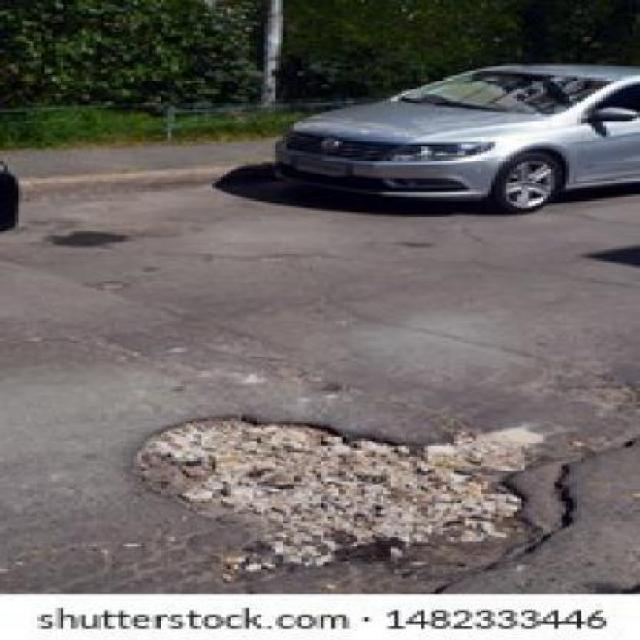pothole: (133, 413, 555, 581)
